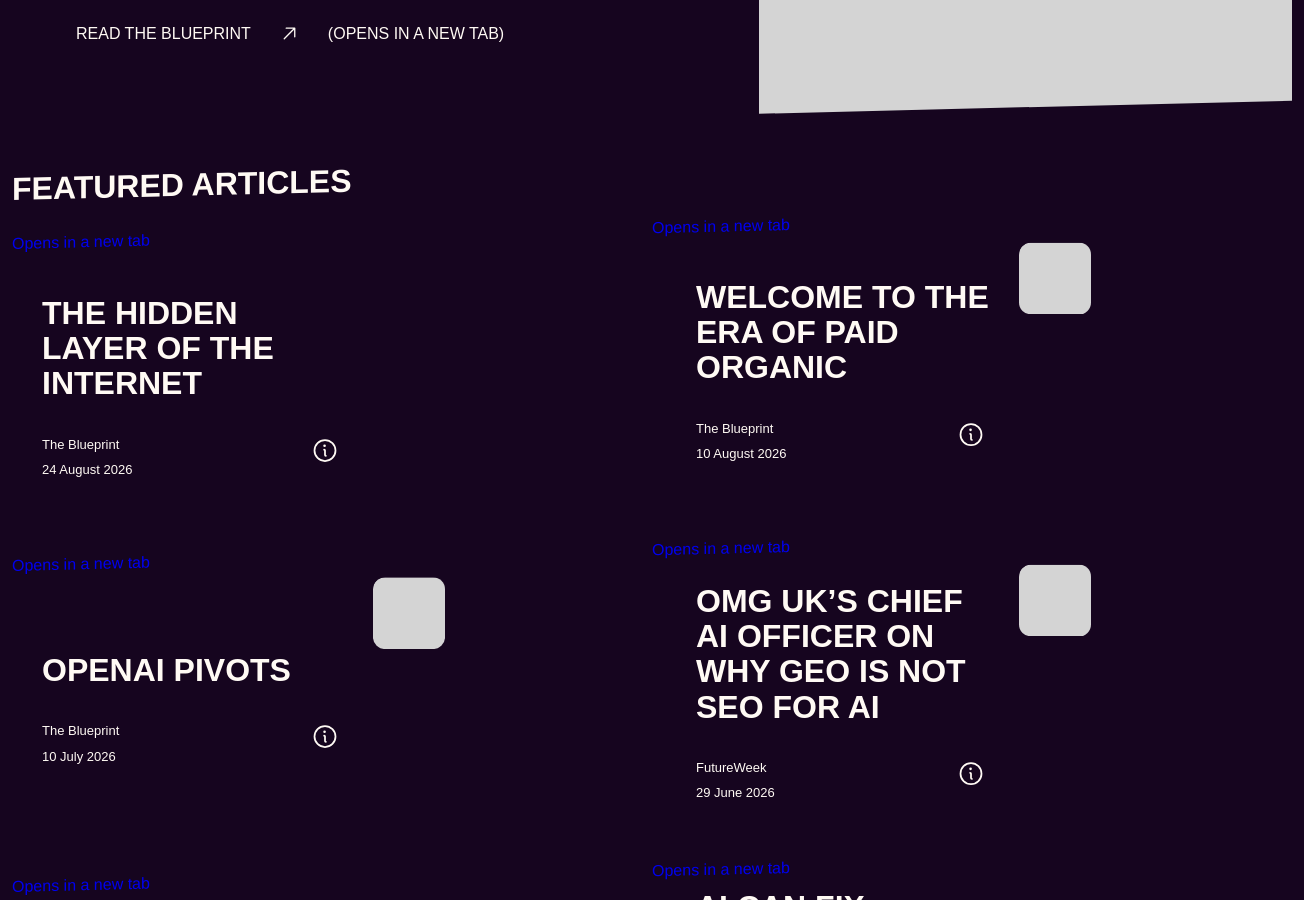
it: an image failure preserves the article title, summary control and destination
The width and height of the screenshot is (1304, 900).
(page scrolled)
Click the button named "About this article: The Hidden Layer of the Internet". click: (325, 450)
box: [303,428,347,472]
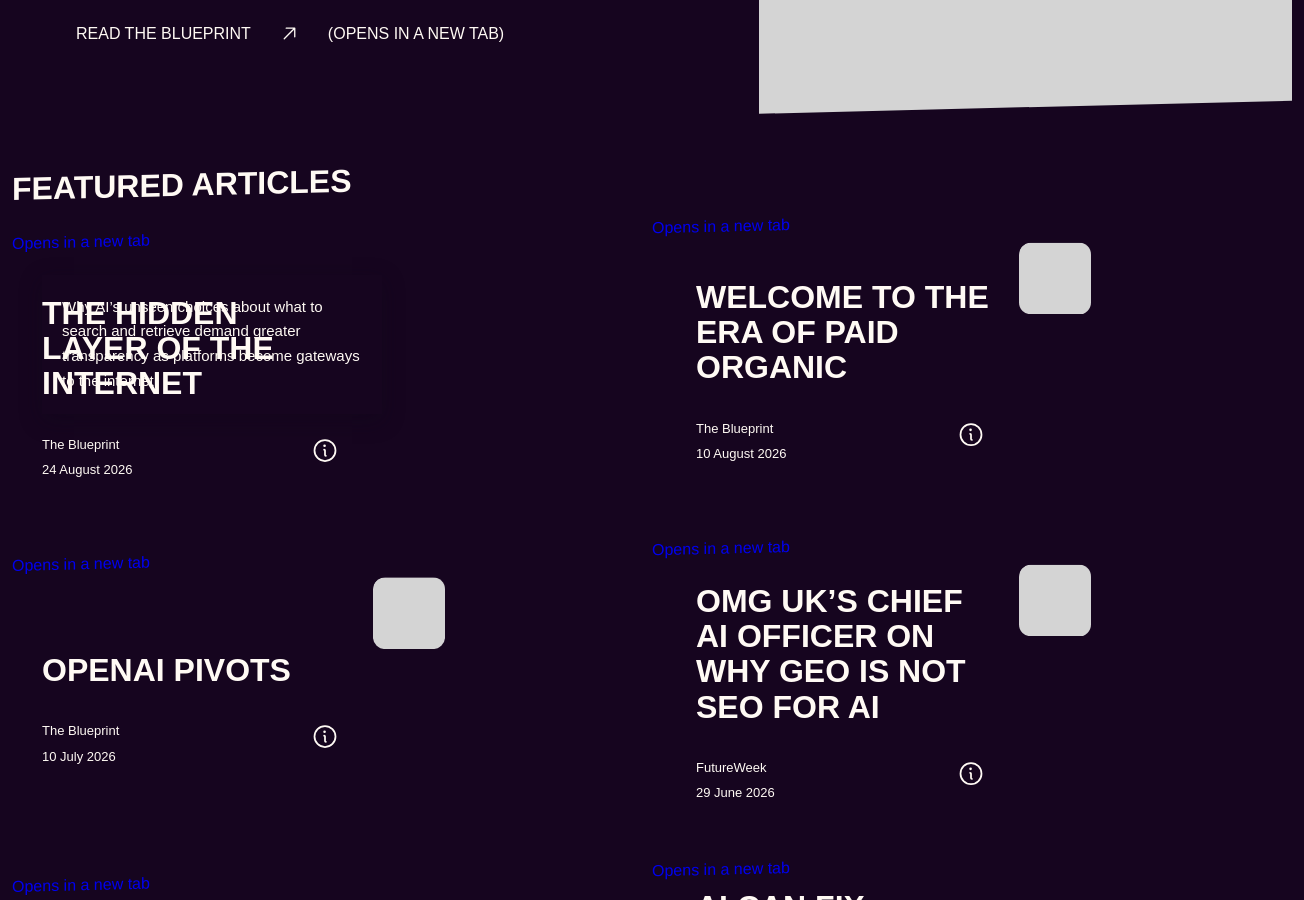
Expected: the text "Why AI’s unseen choices about what to search and retrieve demand greater transparency as platforms become gateways to th" is shown, [62,297,360,388]
